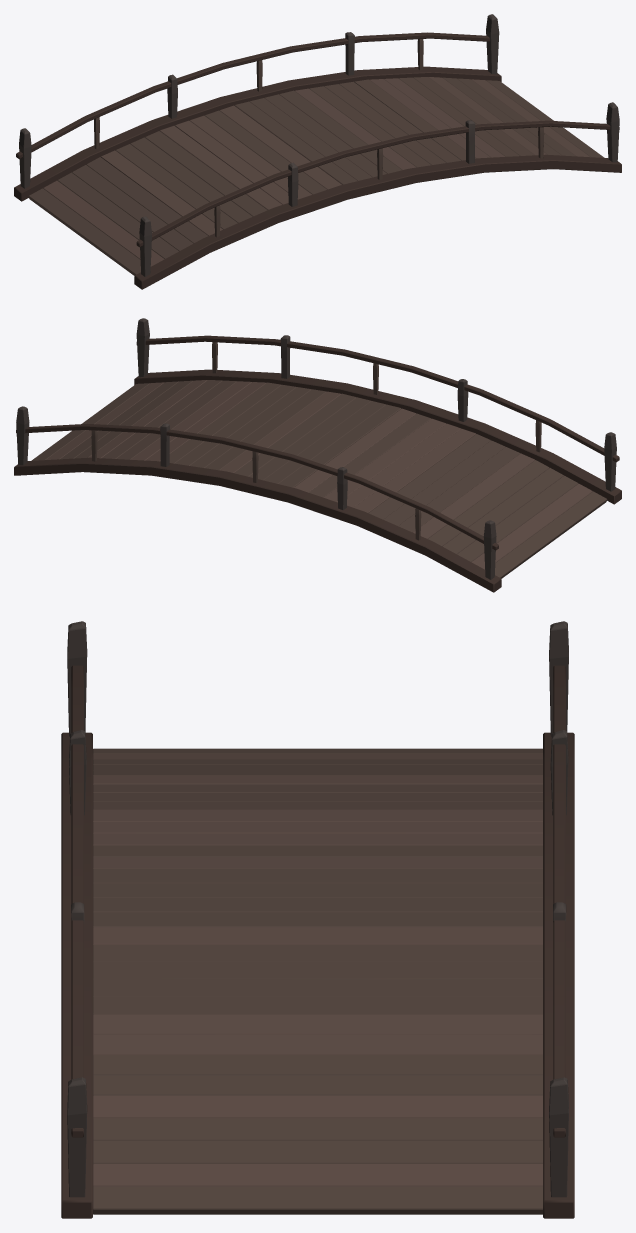
The model's file is bridge_04.glb.
3 views of the same model, one above another, from view 1: azimuth 30°, elevation 25°; view 2: azimuth 150°, elevation 25°; view 3: azimuth 270°, elevation 25° (orthographic). The views are drawn at different scales.
Visible parts, largest first — view 1: bridge_04; view 2: bridge_04; view 3: bridge_04.
Boxes of the visible parts, x1=… form: bridge_04: x1=14, y1=14, x2=621, y2=289; bridge_04: x1=14, y1=318, x2=621, y2=592; bridge_04: x1=61, y1=621, x2=574, y2=1218.
Bounding box in the file's own units: 11.3 × 1.92 × 5.23.
1 material, 1 textured.
